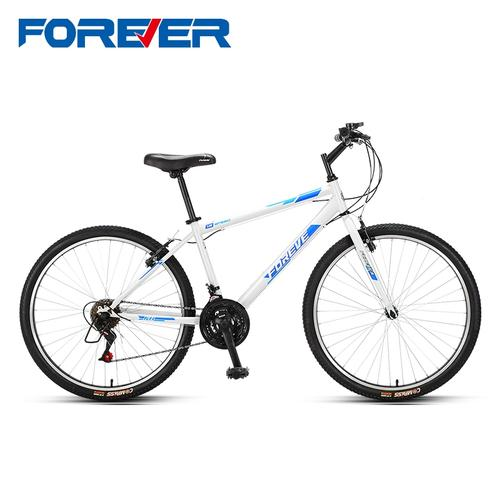单车: (14, 117, 488, 405)
